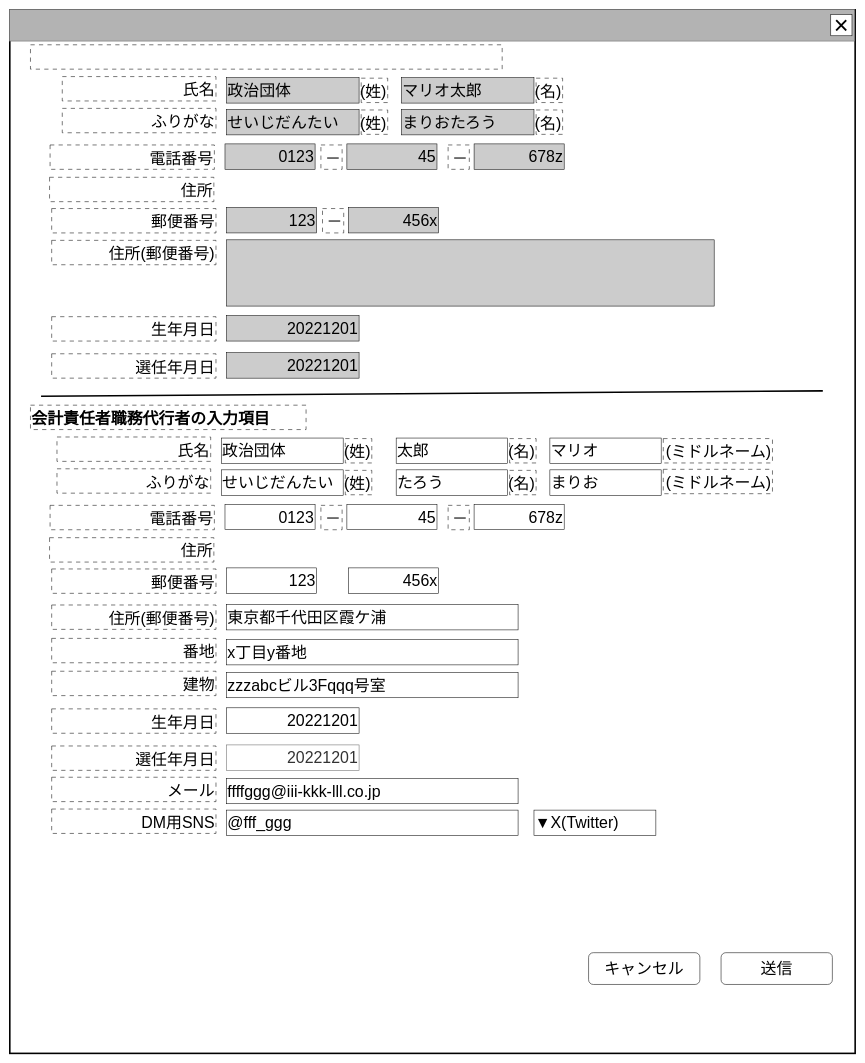
Image size: 865x1063. Some labels were removed from this diagram. Each missing label, with the centre of its shape:
政治団体設立届書と政治資金収支報告書で表示される項目: the point at 266,56
東京都千代田区霞ケ浦x丁目y番地zzzabcビル3Fqqq号室: the point at 470,272
